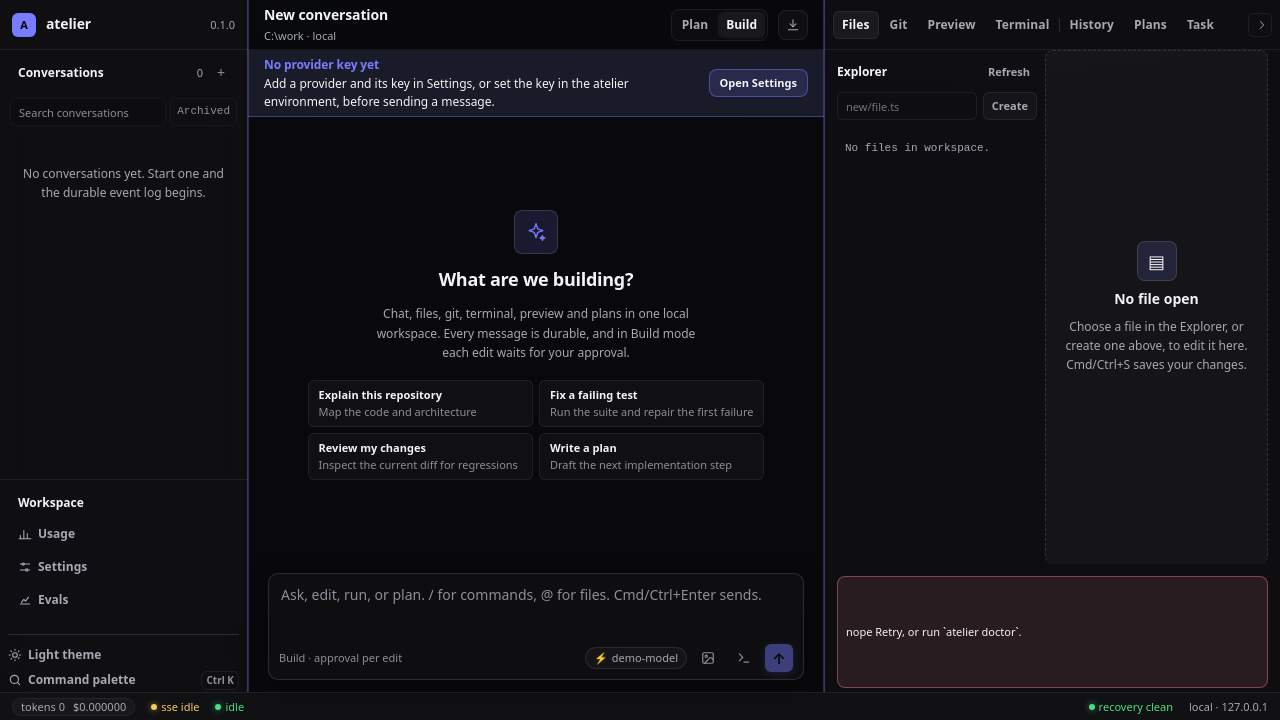
Test: atelier shell › points a first run at Settings when no provider key is configured
The image size is (1280, 720).
expect the message with test id "provider-notice" is shown: met, box [248,50,824,117]
What coordinates should you click on to do the following:
click the button with test id "provider-settings"
I would click on:
 (758, 83)
Its box is [709,69,808,97].
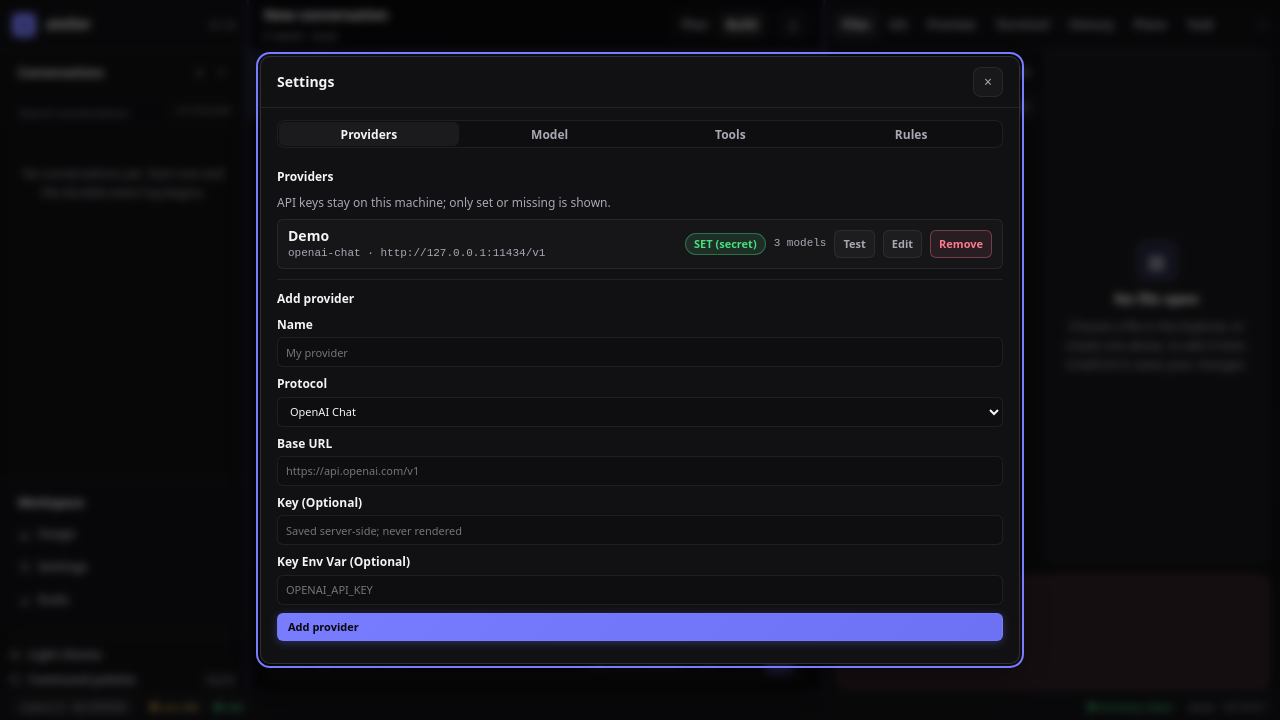
expect the element with test id "settings-panel" is shown: met, box [277,120,1003,651]
